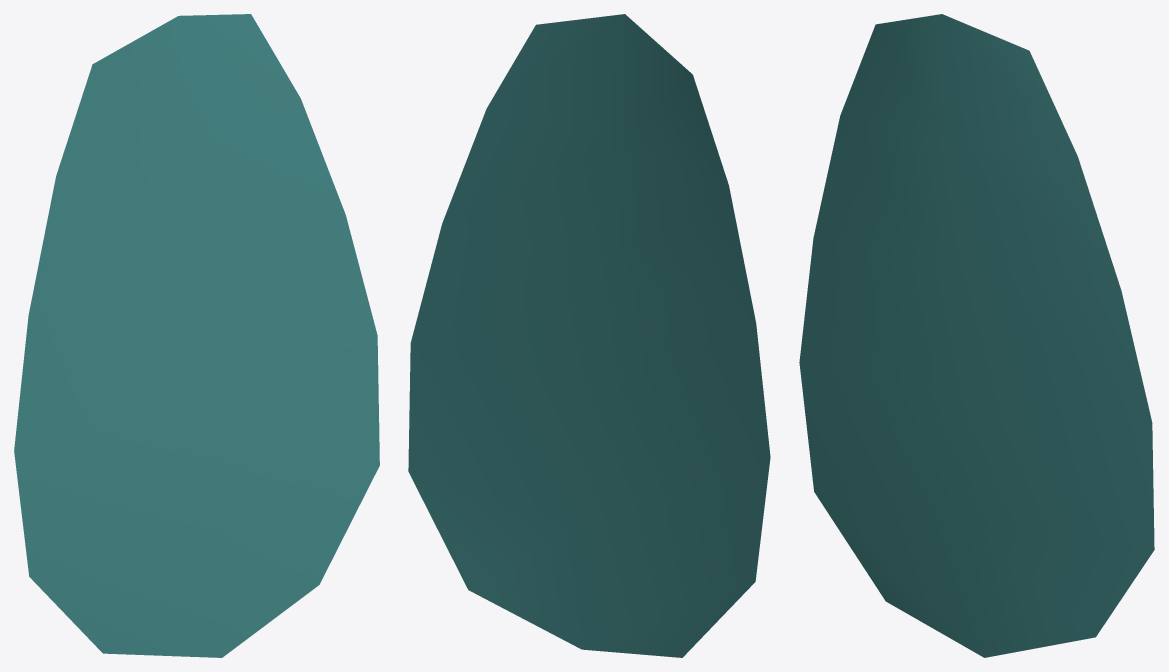
File: budgie_feather_flight_tertiary_009.obj
3 renders of one model, left to right at view 1: azimuth 30°, elevation 25°; view 2: azimuth 150°, elevation 25°; view 3: azimuth 330°, elevation 25°, orthographic. The views are drawn at different scales.
Visible parts, largest first — view 1: feather_flight_tertiary_009; view 2: feather_flight_tertiary_009; view 3: feather_flight_tertiary_009.
Part boxes in pixels (box(x1,y1,x2,y2)): feather_flight_tertiary_009: box(14, 14, 379, 657); feather_flight_tertiary_009: box(408, 14, 770, 657); feather_flight_tertiary_009: box(799, 14, 1154, 657).
Size of the model in its own units: 0.0078 by 0.0133 by 0.000322.
